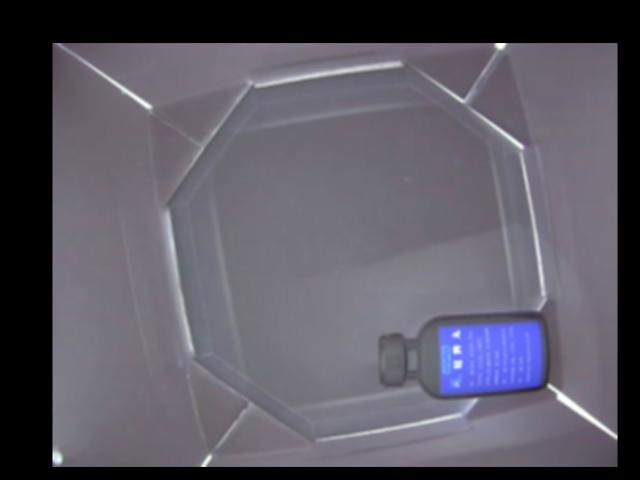Bottle: (376, 312, 550, 398)
